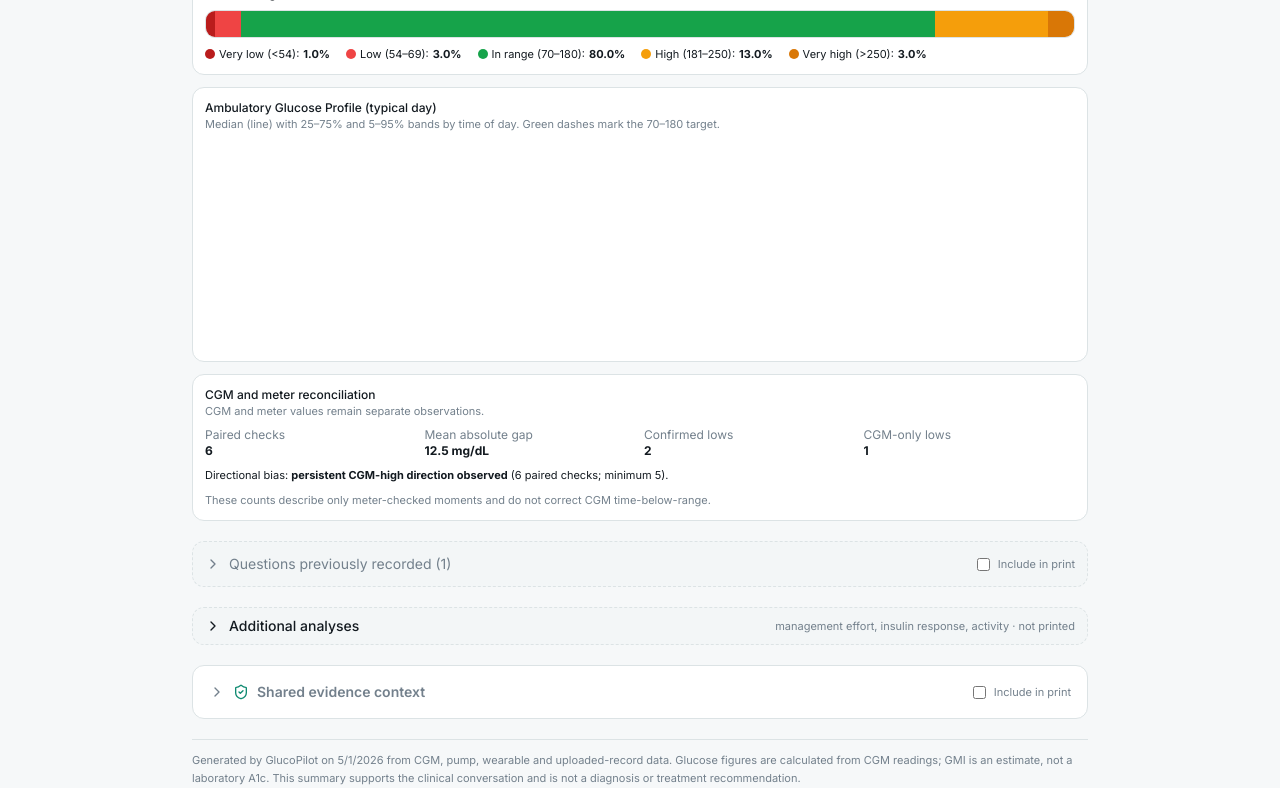
Test: visit report contradictions › keeps unsupported legacy suspicions collapsed and out of print by default
(page scrolled)
Expected: the text "Synthetic legacy question" is not shown
Expected: the 1st checkbox labelled "Include in print" is not checked, [977,558,990,570]
Click the button "Questions previously recorded (1)" at (328, 564), box [205,554,451,574]
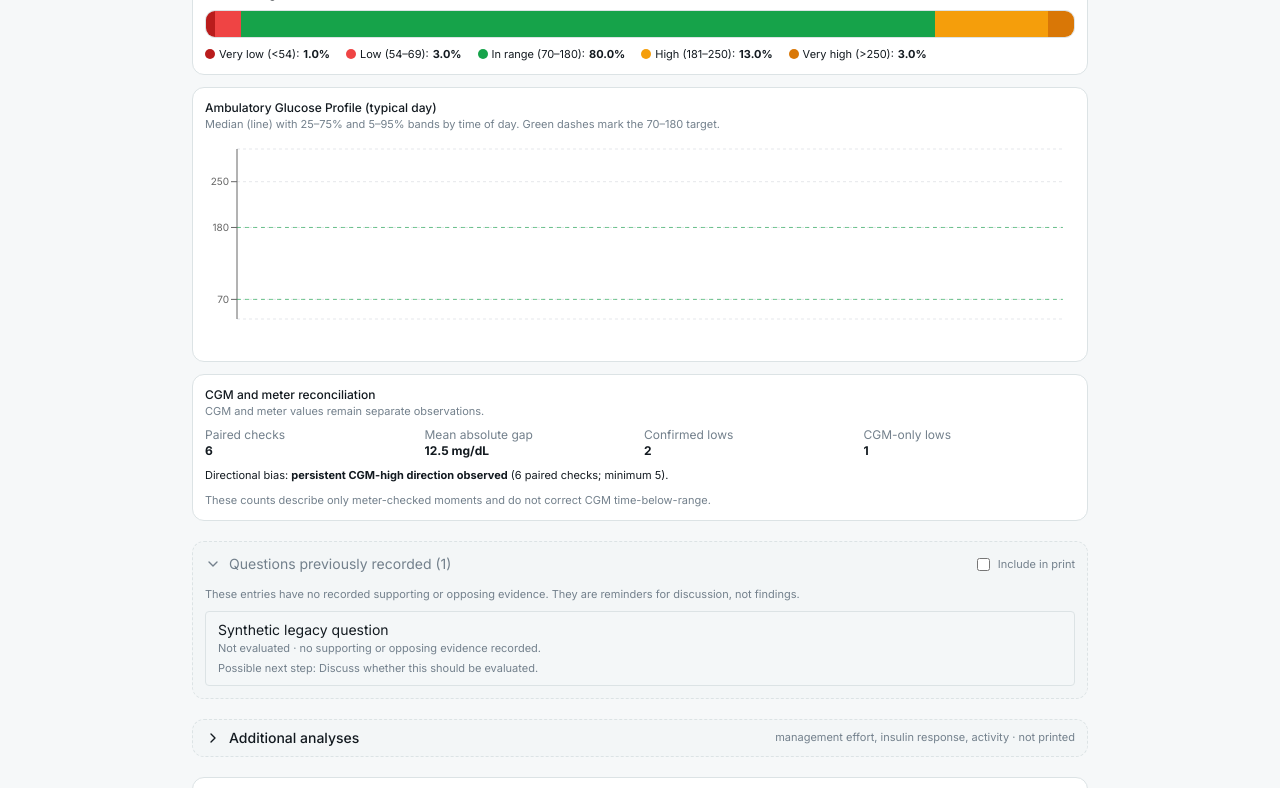
Expected: the text "Synthetic legacy question" is shown, [218,620,389,638]
Expected: the text "reminders for discussion, not findings" is shown, [205,587,800,601]
Expected: the text "Not evaluated · no supporting or opposing evidence recorded." is shown, [218,640,541,654]
